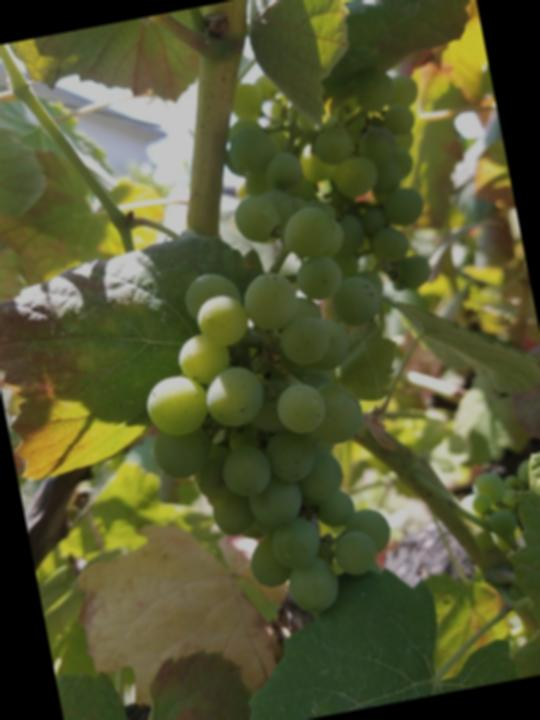grape: (113, 196, 440, 641)
